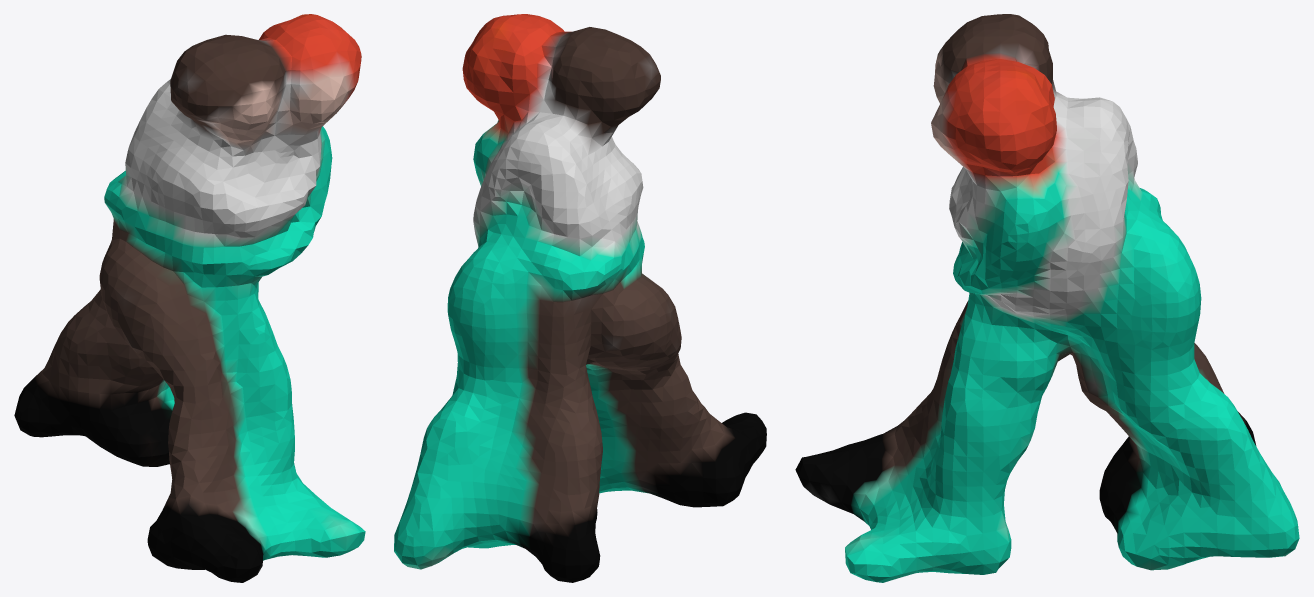
Rendered from Dancers.glb.
The picture shows the model from 3 angles, left to right: view 1: azimuth 30°, elevation 25°; view 2: azimuth 150°, elevation 25°; view 3: azimuth 270°, elevation 25°; orthographic projection. The views are drawn at different scales.
Visible parts, largest first — view 1: Dancers; view 2: Dancers; view 3: Dancers.
Boxes of the visible parts, bbox=[...] form: Dancers: bbox=[14, 14, 365, 582]; Dancers: bbox=[394, 14, 766, 582]; Dancers: bbox=[795, 14, 1299, 582].
Bounding box in the file's own units: 1.17 × 2.26 × 1.95.
